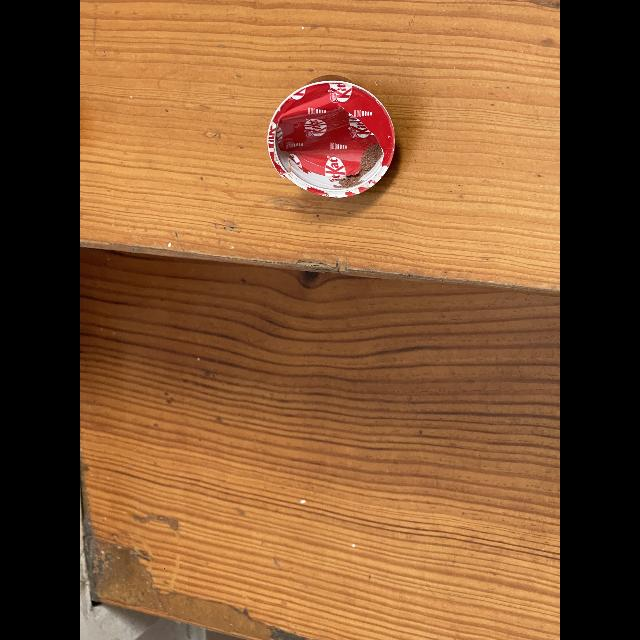damaged_capsule: (259, 66, 409, 212)
